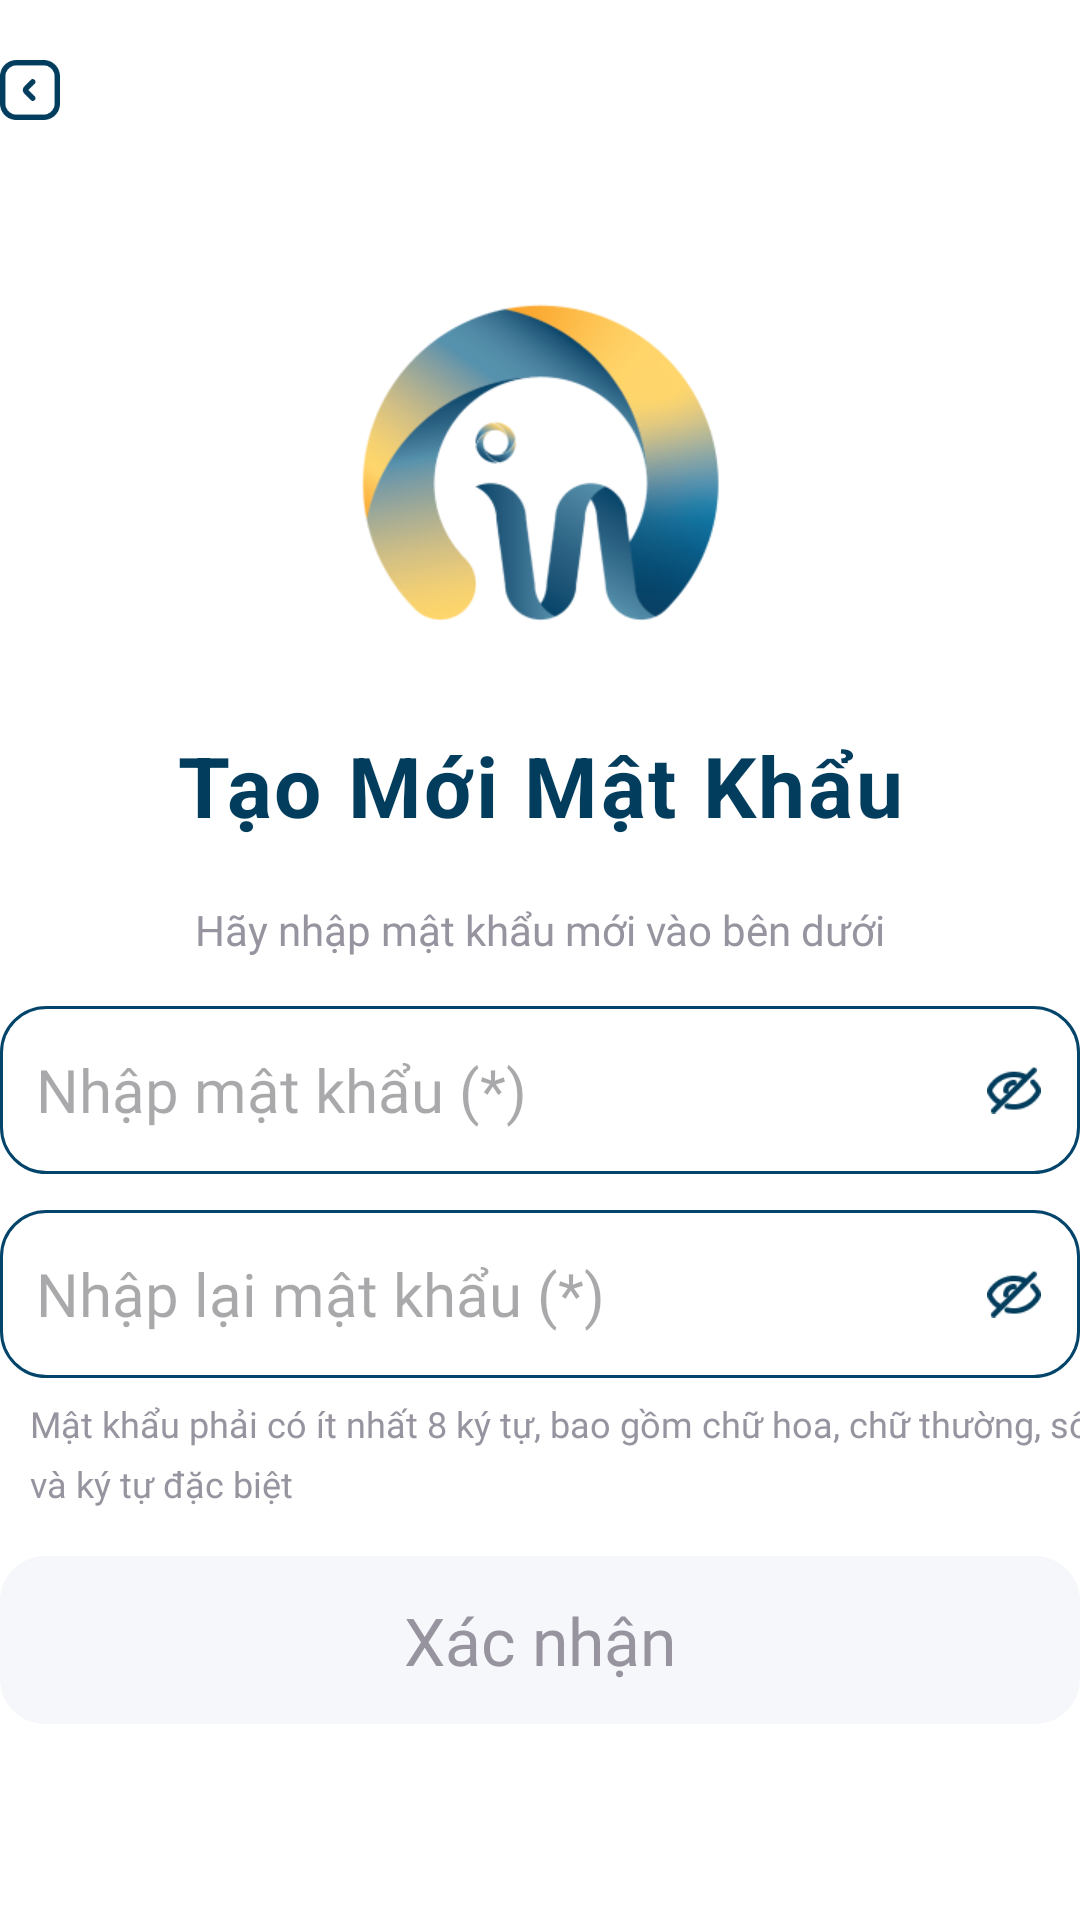

Screen size 1080px×1920px. Icon name, then its center in pixels as (x=x, y=y):
back: (x=30, y=90)
hide: (x=1014, y=1090), (x=1014, y=1294)
